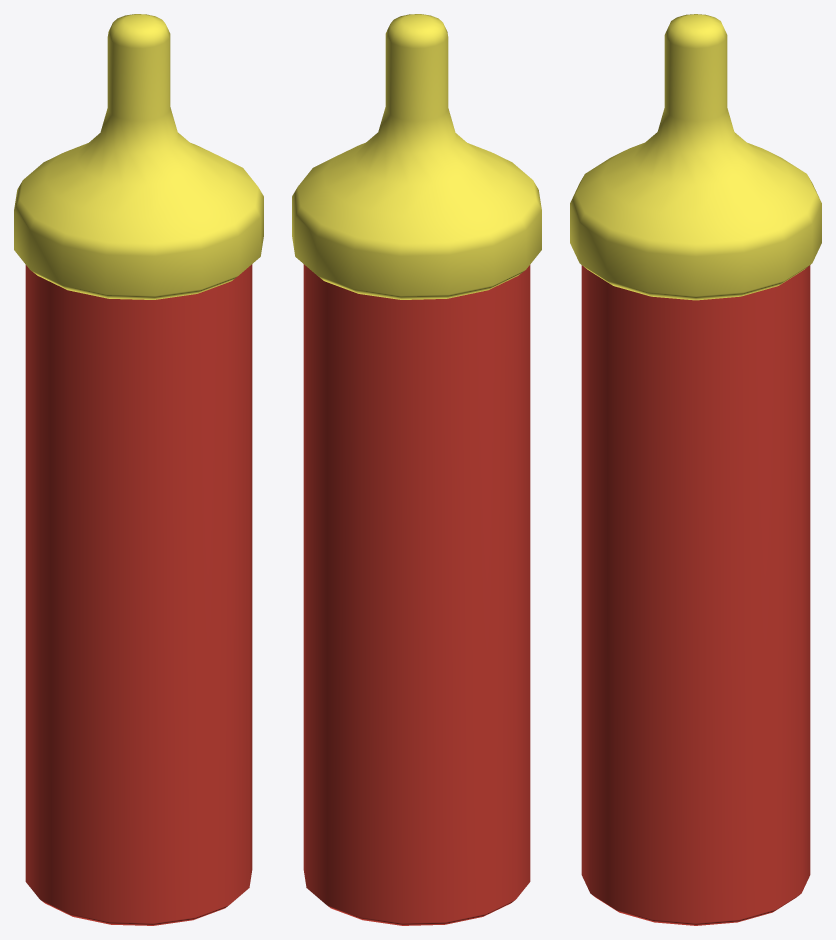
Rendered from Ketchup.fbx.
The picture shows the model from 3 angles, left to right: view 1: azimuth 30°, elevation 25°; view 2: azimuth 150°, elevation 25°; view 3: azimuth 270°, elevation 25°; orthographic projection.
Parts seen in each view (by area): view 1: Ketchup; view 2: Ketchup; view 3: Ketchup.
Boxes of the visible parts, bbox=[...] form: Ketchup: bbox=[14, 14, 263, 925]; Ketchup: bbox=[292, 14, 541, 925]; Ketchup: bbox=[570, 14, 821, 925].
Size of the model in its own units: 7.62 by 28.64 by 7.62.
